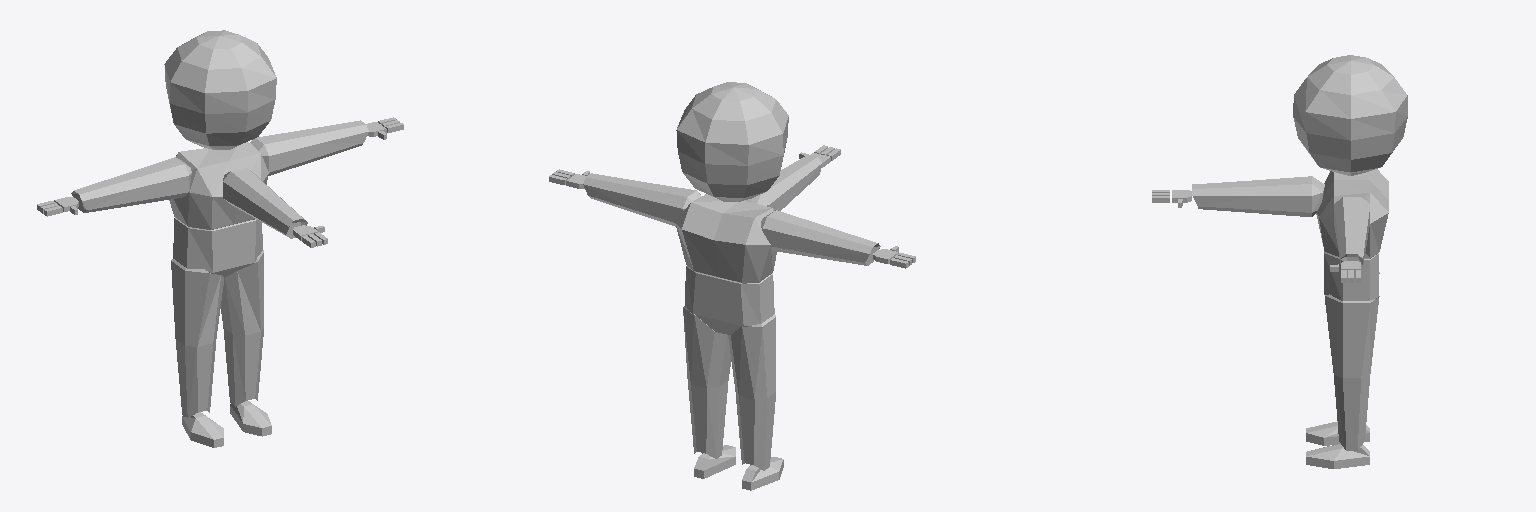
Rendered from Vitruvian2.obj.
3 views of the same model, side by side, from view 1: azimuth 30°, elevation 25°; view 2: azimuth 150°, elevation 25°; view 3: azimuth 270°, elevation 25° (orthographic).
Parts seen in each view (by area): view 1: Android; view 2: Android; view 3: Android.
Part boxes in pixels (x1,y1,x2,y2): Android: (37, 30, 403, 447); Android: (549, 82, 915, 490); Android: (1152, 55, 1407, 468).
Bounding box in the file's own units: 2.24 × 2.33 × 1.39.